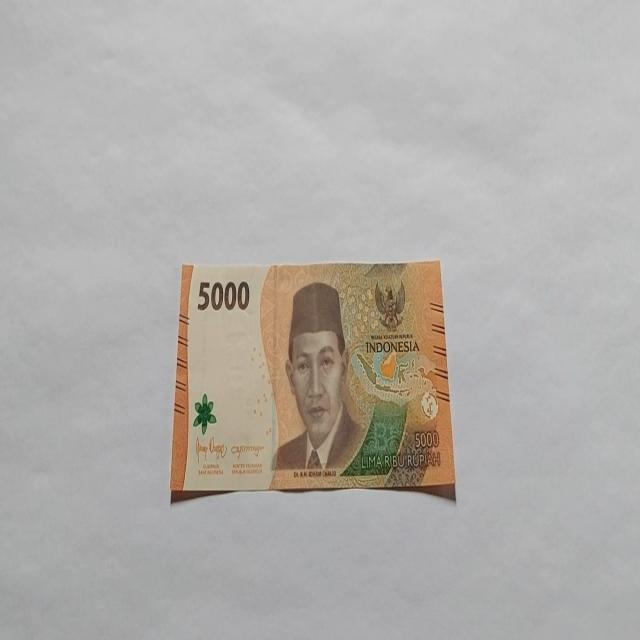lima ribu rupiah: (170, 258, 456, 504), (270, 280, 366, 475)
